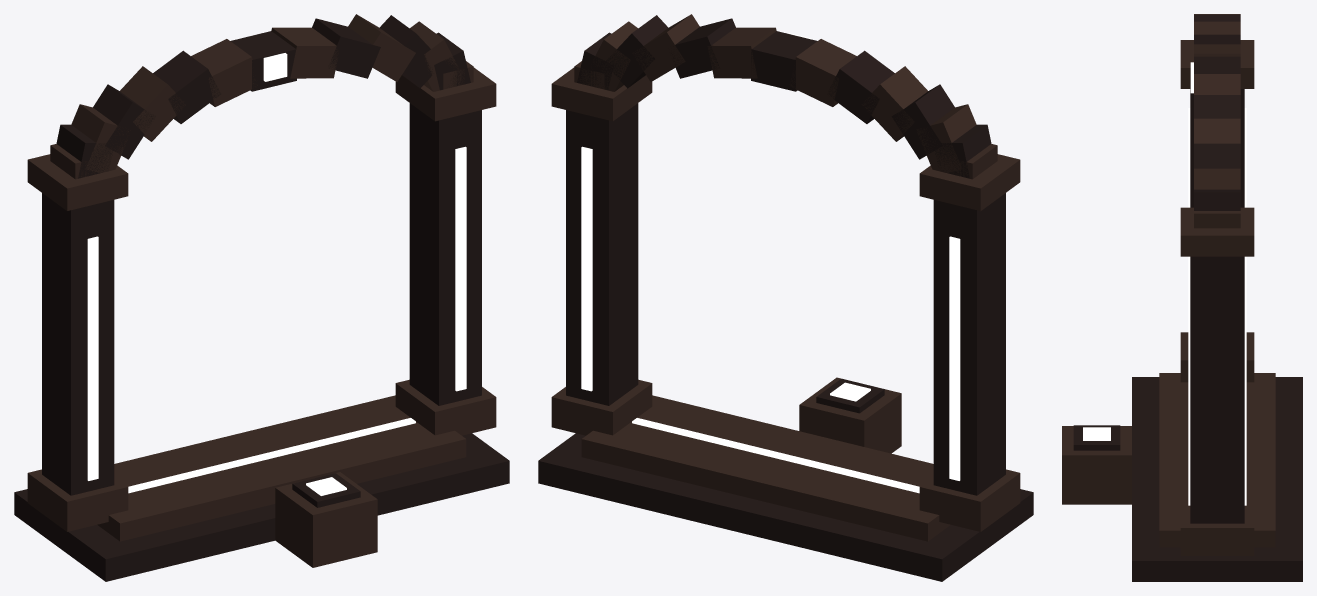
File: portal_pedestal.glb
3 renders of one model, left to right at view 1: azimuth 30°, elevation 25°; view 2: azimuth 150°, elevation 25°; view 3: azimuth 270°, elevation 25°, orthographic. The views are drawn at different scales.
Parts seen in each view (by area): view 1: portal_pedestal; view 2: portal_pedestal; view 3: portal_pedestal.
Part boxes in pixels (x1,y1,x2,y2): portal_pedestal: (14,14,509,581); portal_pedestal: (538,14,1033,581); portal_pedestal: (1062,14,1302,581).
Size of the model in its own units: 5.95 by 6.05 by 3.1.
